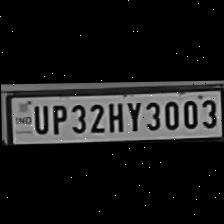0: (178, 94, 198, 127), (160, 96, 180, 128)
2: (84, 99, 104, 132)
3: (66, 99, 86, 132), (141, 97, 161, 130), (197, 95, 217, 128)
H: (104, 98, 124, 132)
P: (46, 100, 68, 134)
U: (28, 100, 48, 132)
Y: (123, 98, 141, 132)
